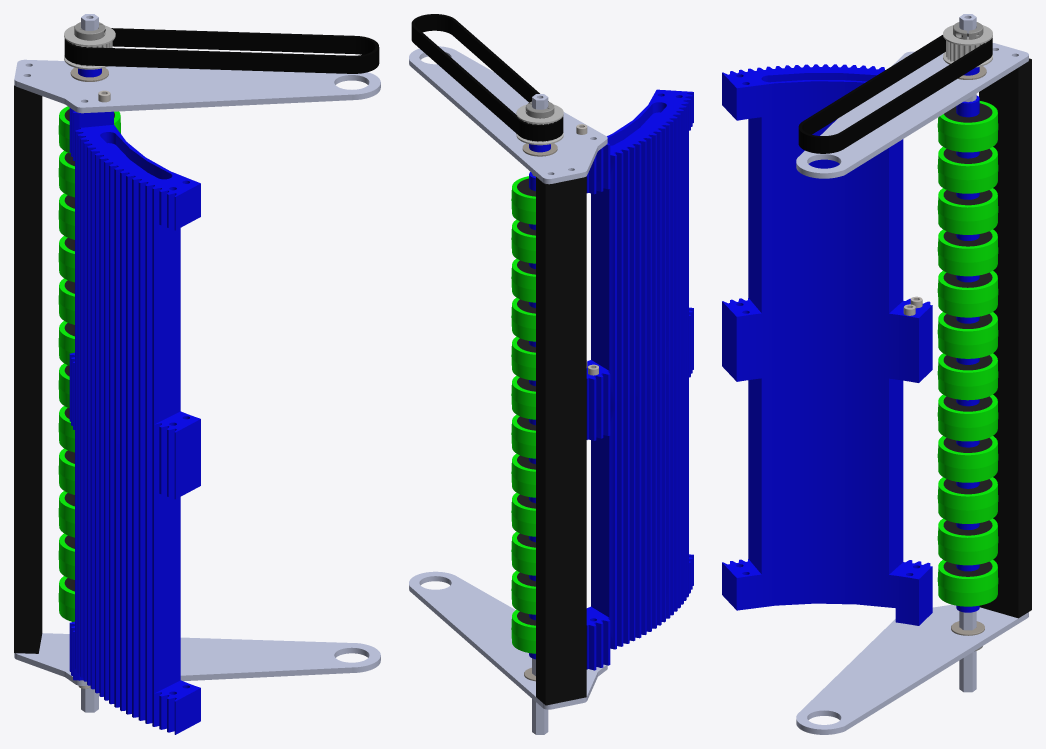
3 renders of one model, left to right at view 1: azimuth 30°, elevation 25°; view 2: azimuth 150°, elevation 25°; view 3: azimuth 270°, elevation 25°, orthographic. The views are drawn at different scales.
Visible parts, largest first — view 1: NAUO11, NAUO10, NAUO9, NAUO3, NAUO19, NAUO2, NAUO4, NAUO20, NAUO35, NAUO42, NAUO43, NAUO37 (+6 smaller); view 2: NAUO11, NAUO9, NAUO10, NAUO3, NAUO2, NAUO19, NAUO21, NAUO34, NAUO35, NAUO36, NAUO37, NAUO38 (+8 smaller); view 3: NAUO10, NAUO11, NAUO9, NAUO2, NAUO3, NAUO19, NAUO21, NAUO40, NAUO43, NAUO34, NAUO36, NAUO37 (+8 smaller).
Part boxes in pixels (left/top/right/bottom): NAUO11: left=69, top=108, right=200, bottom=465; NAUO10: left=69, top=388, right=200, bottom=734; NAUO9: left=14, top=85, right=42, bottom=653; NAUO3: left=14, top=59, right=380, bottom=113; NAUO19: left=64, top=28, right=379, bottom=73; NAUO2: left=14, top=633, right=380, bottom=685; NAUO4: left=64, top=25, right=115, bottom=69; NAUO20: left=81, top=14, right=98, bottom=712; NAUO35: left=58, top=193, right=74, bottom=239; NAUO42: left=58, top=491, right=74, bottom=537; NAUO43: left=58, top=533, right=74, bottom=579; NAUO37: left=58, top=278, right=74, bottom=324; NAUO11: left=586, top=89, right=693, bottom=410; NAUO9: left=536, top=177, right=586, bottom=705; NAUO10: left=586, top=339, right=693, bottom=670; NAUO3: left=409, top=46, right=607, bottom=184; NAUO2: left=409, top=571, right=607, bottom=709; NAUO19: left=411, top=14, right=563, bottom=141; NAUO21: left=511, top=176, right=535, bottom=224; NAUO34: left=511, top=219, right=535, bottom=263; NAUO35: left=511, top=258, right=535, bottom=302; NAUO36: left=511, top=297, right=535, bottom=341; NAUO37: left=511, top=336, right=535, bottom=380; NAUO38: left=511, top=375, right=535, bottom=419; NAUO10: left=722, top=334, right=932, bottom=625; NAUO11: left=722, top=64, right=932, bottom=350; NAUO9: left=979, top=58, right=1031, bottom=618; NAUO2: left=796, top=604, right=1028, bottom=734; NAUO3: left=796, top=43, right=1028, bottom=178; NAUO19: left=798, top=35, right=992, bottom=153; NAUO21: left=937, top=101, right=998, bottom=152; NAUO40: left=937, top=394, right=998, bottom=441; NAUO43: left=937, top=518, right=998, bottom=565; NAUO34: left=937, top=147, right=998, bottom=193; NAUO36: left=937, top=229, right=998, bottom=276; NAUO37: left=937, top=270, right=998, bottom=317.
Bounding box in the file's own units: 0.259 × 0.62 × 0.2592.
